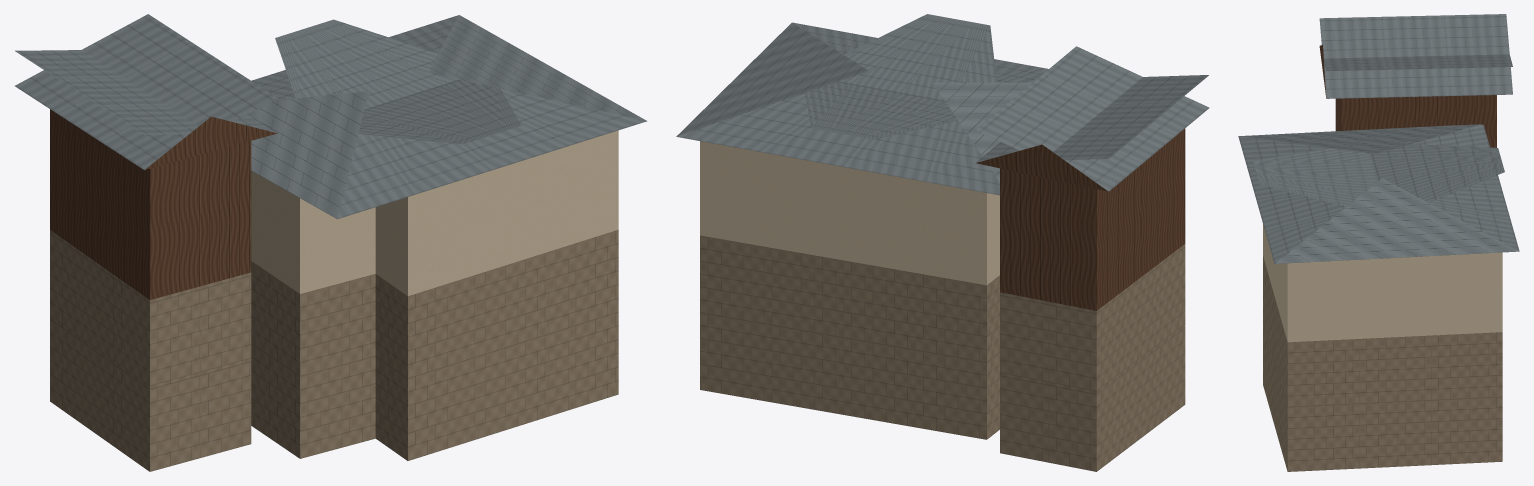
The model's file is bld_c22_30_392.gltf.
The picture shows the model from 3 angles, left to right: view 1: azimuth 30°, elevation 25°; view 2: azimuth 150°, elevation 25°; view 3: azimuth 270°, elevation 25°; orthographic projection. The views are drawn at different scales.
Parts seen in each view (by area): view 1: bld_c22_30_392; view 2: bld_c22_30_392; view 3: bld_c22_30_392.
Boxes of the visible parts, x1,y1,x2,y2 form: bld_c22_30_392: (15,14,647,471); bld_c22_30_392: (676,14,1209,471); bld_c22_30_392: (1238,14,1519,471).
Size of the model in its own units: 14.45 by 10.1 by 9.22.
Materials: 5 (5 with a texture image).
